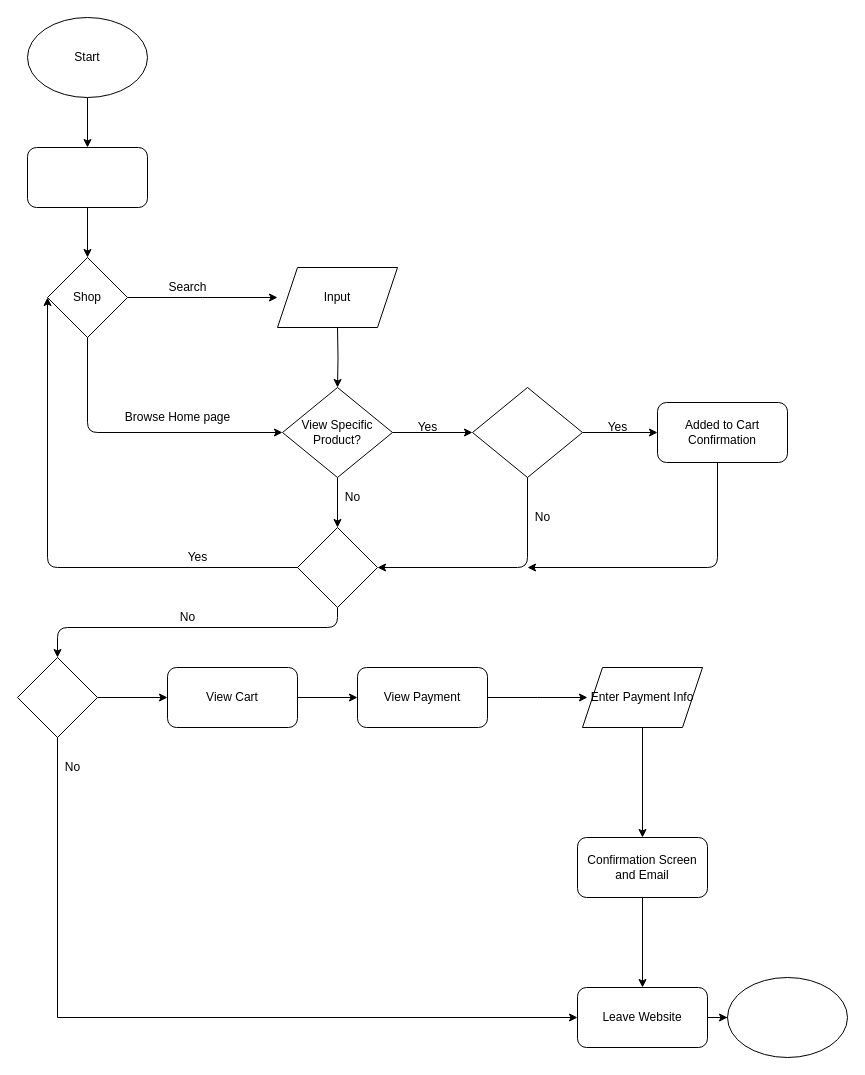
This 865x1075 diagram has some shape labels left out. Here are the shapes that lost their labels. From the top down, the centre of each, then its label:
At pixel 87 177: "Enter Website".
At pixel 527 432: "Add to cart?".
At pixel 337 567: "Continue Shopping?".
At pixel 57 697: "Checkout?".
At pixel 787 1017: "End".
